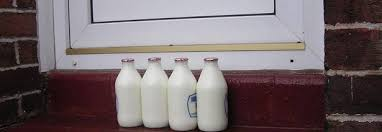milk: (108, 54, 145, 131), (194, 51, 229, 124), (165, 56, 198, 126), (140, 48, 168, 126)
